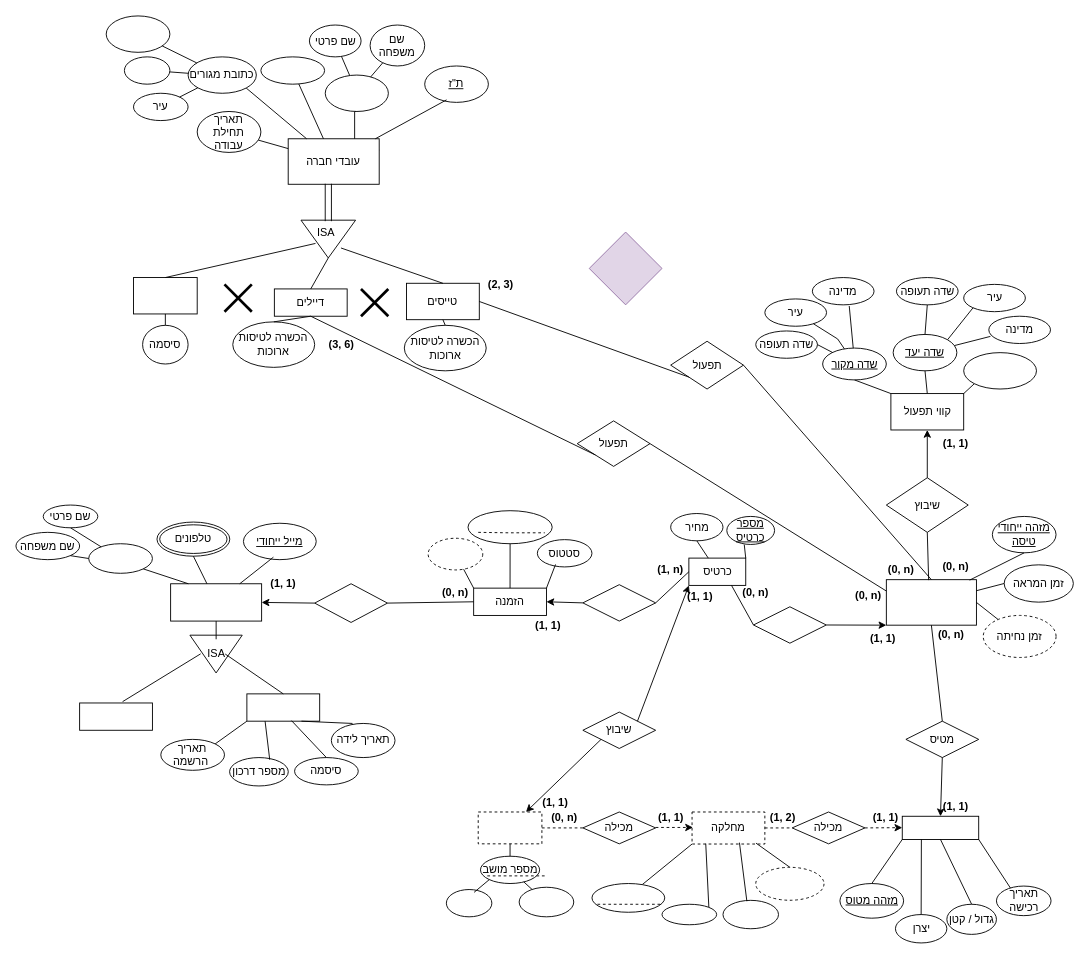
Image size: 1089x959. Some labels were removed from this diagram. Each missing label, with the centre of its shape:
"אורח" belongs at (x=115, y=716).
"הכלה" belongs at (x=619, y=602).
"טיסות" belongs at (x=930, y=602).
"טלפון" belongs at (x=292, y=70).
"לקוחות" belongs at (x=216, y=602).
"מבצע" belongs at (x=350, y=602).
"מושב" belongs at (x=509, y=827).
"מטוס" belongs at (x=940, y=827).
"מנהלים" belongs at (x=165, y=295).
"מספר בית" belongs at (x=137, y=33).
"מספר טור" belongs at (x=468, y=903).
"מספר טורים" belongs at (x=689, y=914).
"מספר מושבים במחלקה" belongs at (x=789, y=883).
"מספר שורה" belongs at (x=546, y=901).
"מספר שורות" belongs at (x=750, y=914).
"משך זמן טיסה" belongs at (x=999, y=370).
"עלות הזמנה" belongs at (x=455, y=553).
"עסקים/תיירים" belongs at (x=628, y=897).
"קוד הזמנה ייחודי" belongs at (x=509, y=527).
"רחוב" belongs at (x=146, y=70).
"רשום" belongs at (x=283, y=707).
"שייכות" belongs at (x=789, y=624).
"שם מלא" belongs at (x=356, y=92).
"שם מלא באנגלית" belongs at (x=120, y=558).
